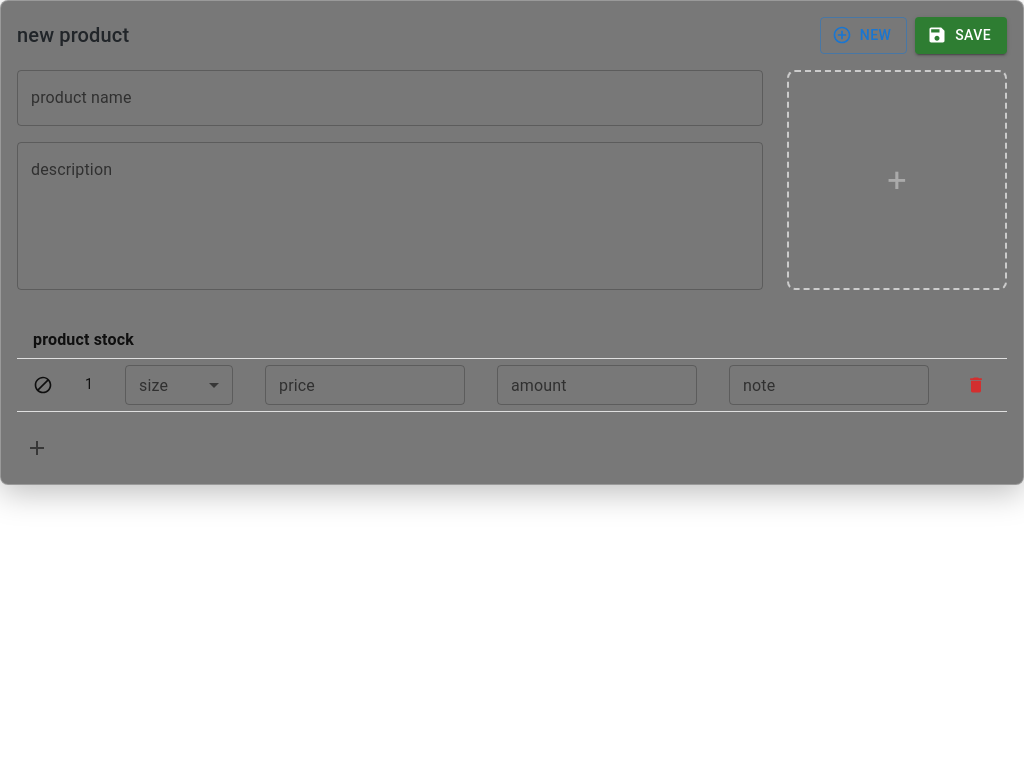
admin add product › validates product name before save
This screenshot has width=1024, height=768.
Click the button "save" at (961,35), box x1=915 y1=17 x2=1007 y2=54
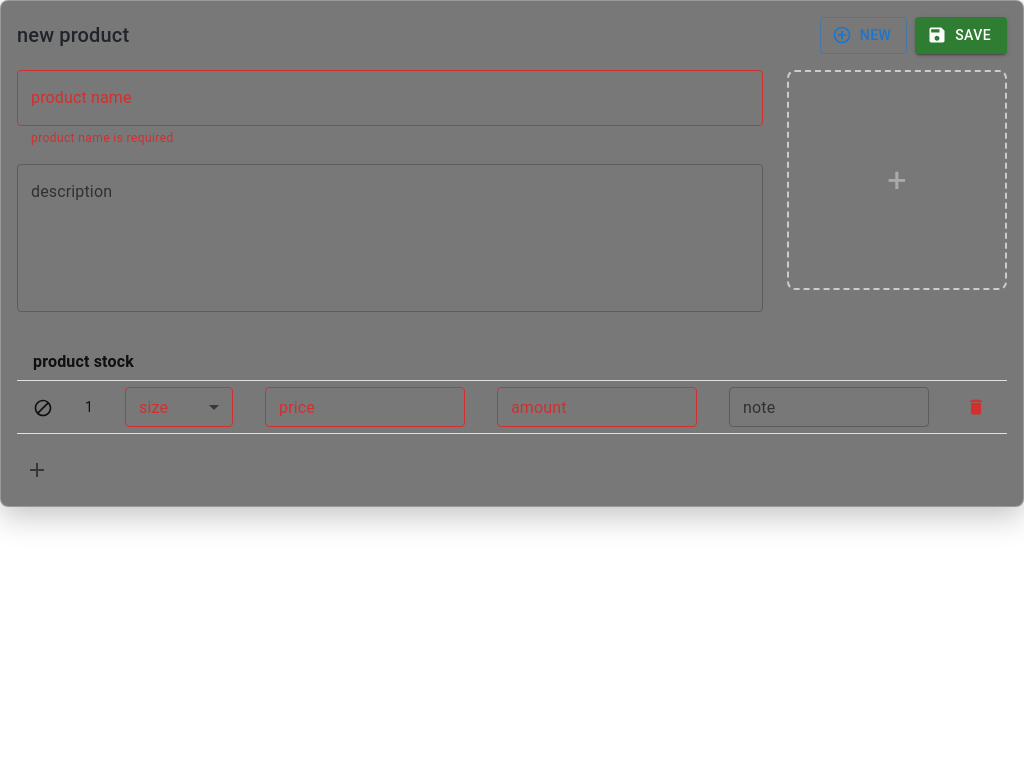
Now the text "product name is required" is shown, box x1=31 y1=130 x2=174 y2=144
